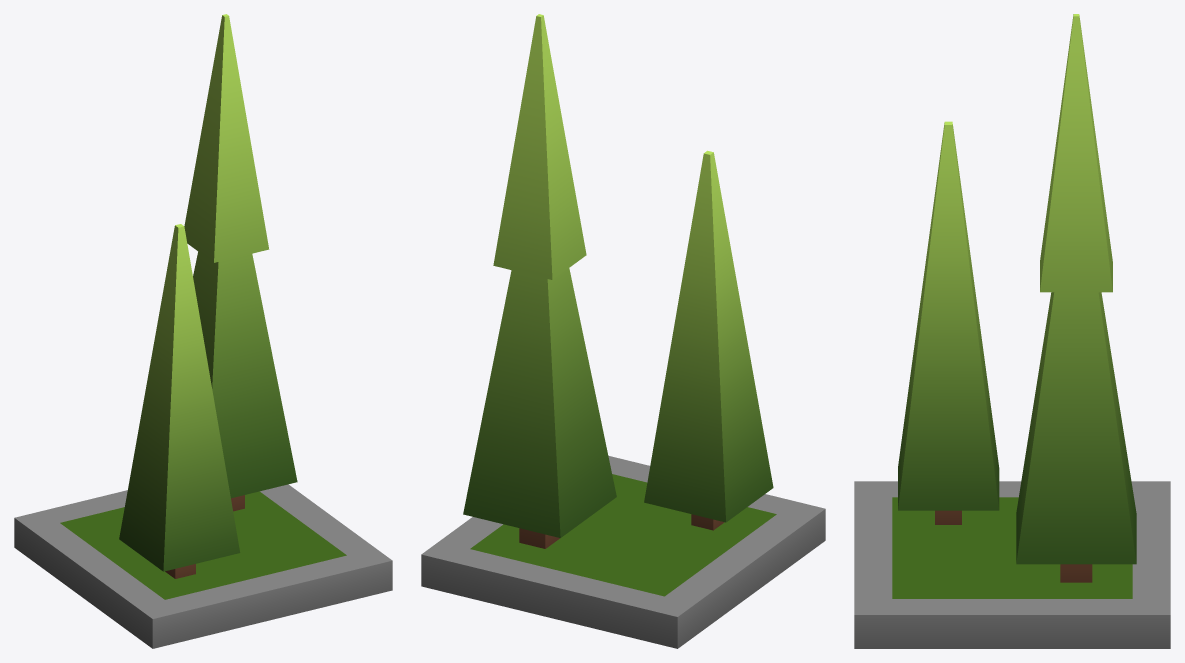
The model's file is tree 3.fbx.
The picture shows the model from 3 angles, left to right: view 1: azimuth 30°, elevation 25°; view 2: azimuth 150°, elevation 25°; view 3: azimuth 270°, elevation 25°; orthographic projection. The views are drawn at different scales.
Parts seen in each view (by area): view 1: tree_3; view 2: tree_3; view 3: tree_3.
Part boxes in pixels (bbox=[...]): tree_3: bbox=[14, 14, 392, 648]; tree_3: bbox=[421, 14, 825, 648]; tree_3: bbox=[854, 14, 1170, 648].
Bounding box in the file's own units: 169 × 350 × 169.
1 material, 1 textured.
